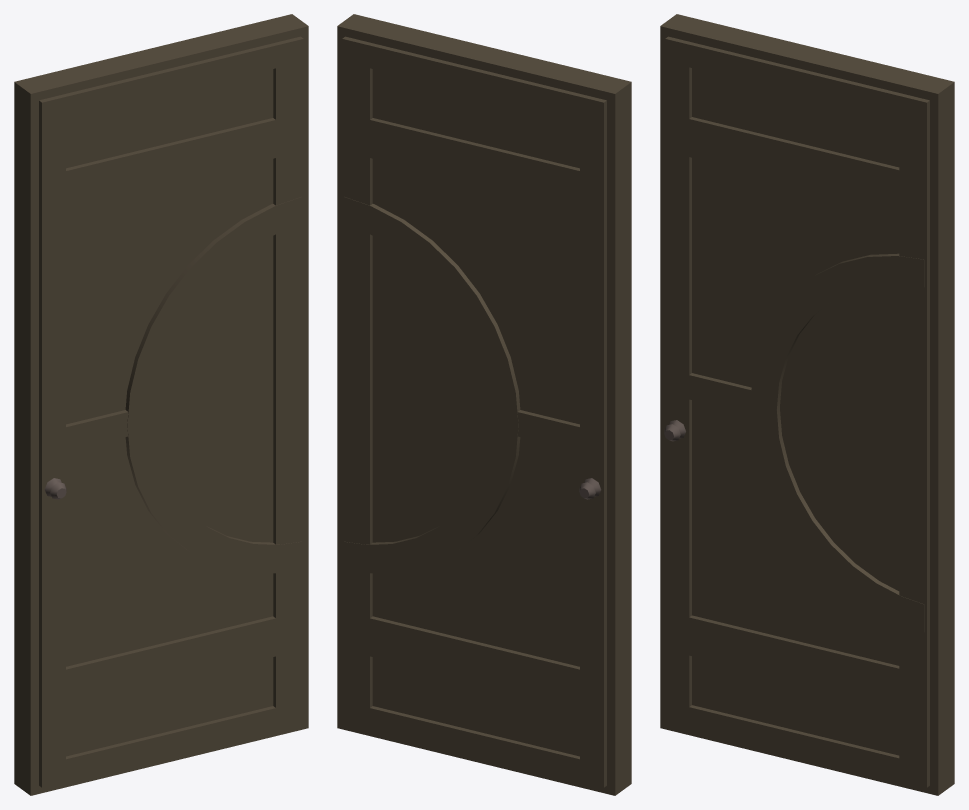
Rendered from quaternius-house-interior-door-3.glb.
3 views of the same model, side by side, from view 1: azimuth 30°, elevation 25°; view 2: azimuth 150°, elevation 25°; view 3: azimuth 330°, elevation 25° (orthographic).
Visible parts, largest first — view 1: Door_3; view 2: Door_3; view 3: Door_3.
Part boxes in pixels (x1=…): Door_3: x1=14, y1=14, x2=308, y2=795; Door_3: x1=337, y1=14, x2=631, y2=795; Door_3: x1=660, y1=14, x2=954, y2=795.
Size of the model in its own units: 1.74 by 4.19 by 0.4156.
